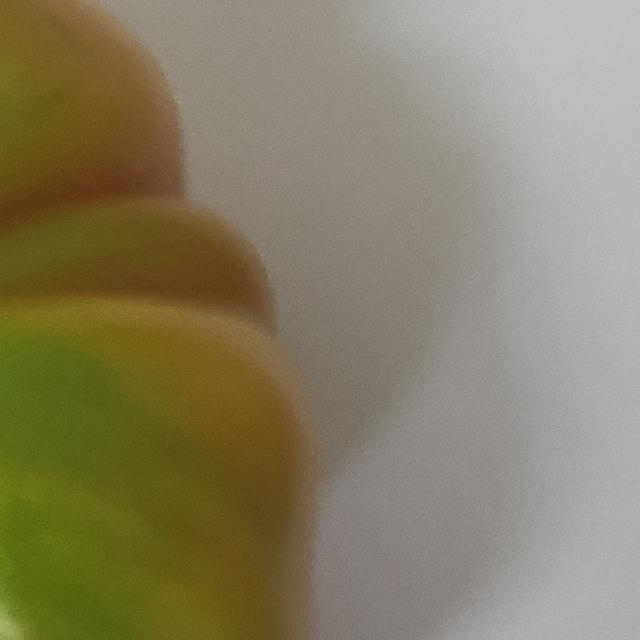tomato: (0, 0, 408, 640)
